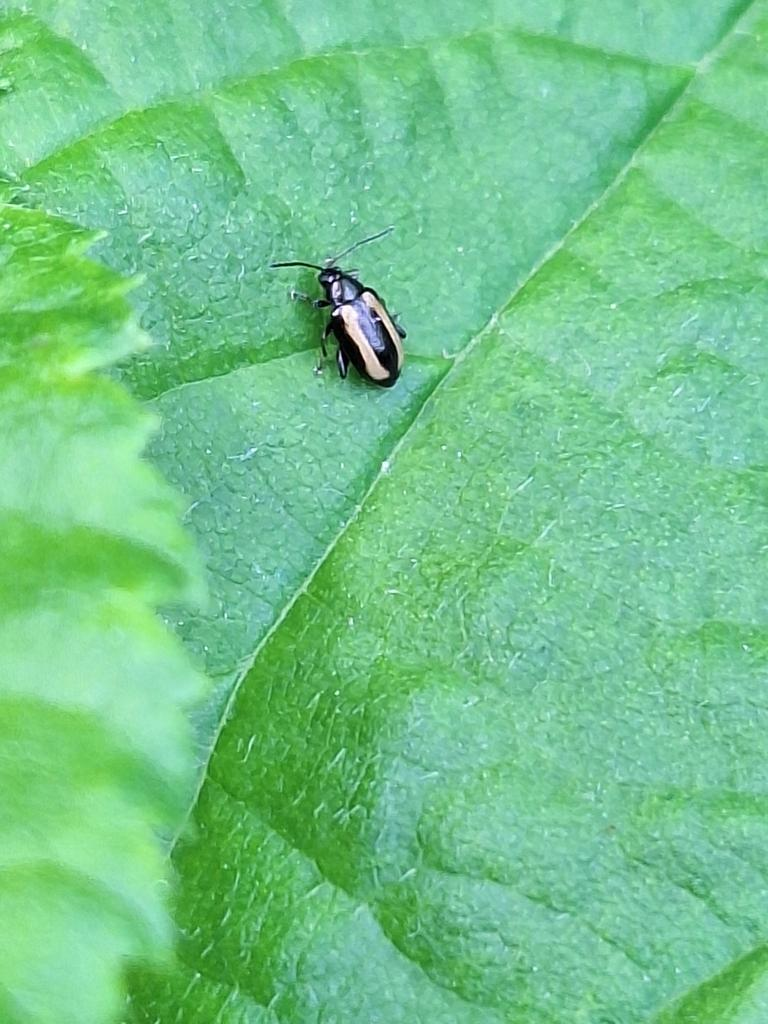flea_beetle: (230, 215, 470, 424)
